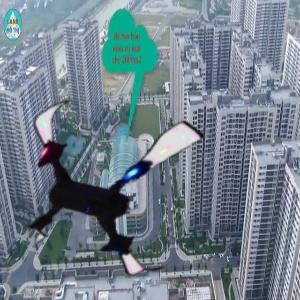drone: (7, 79, 216, 288)
